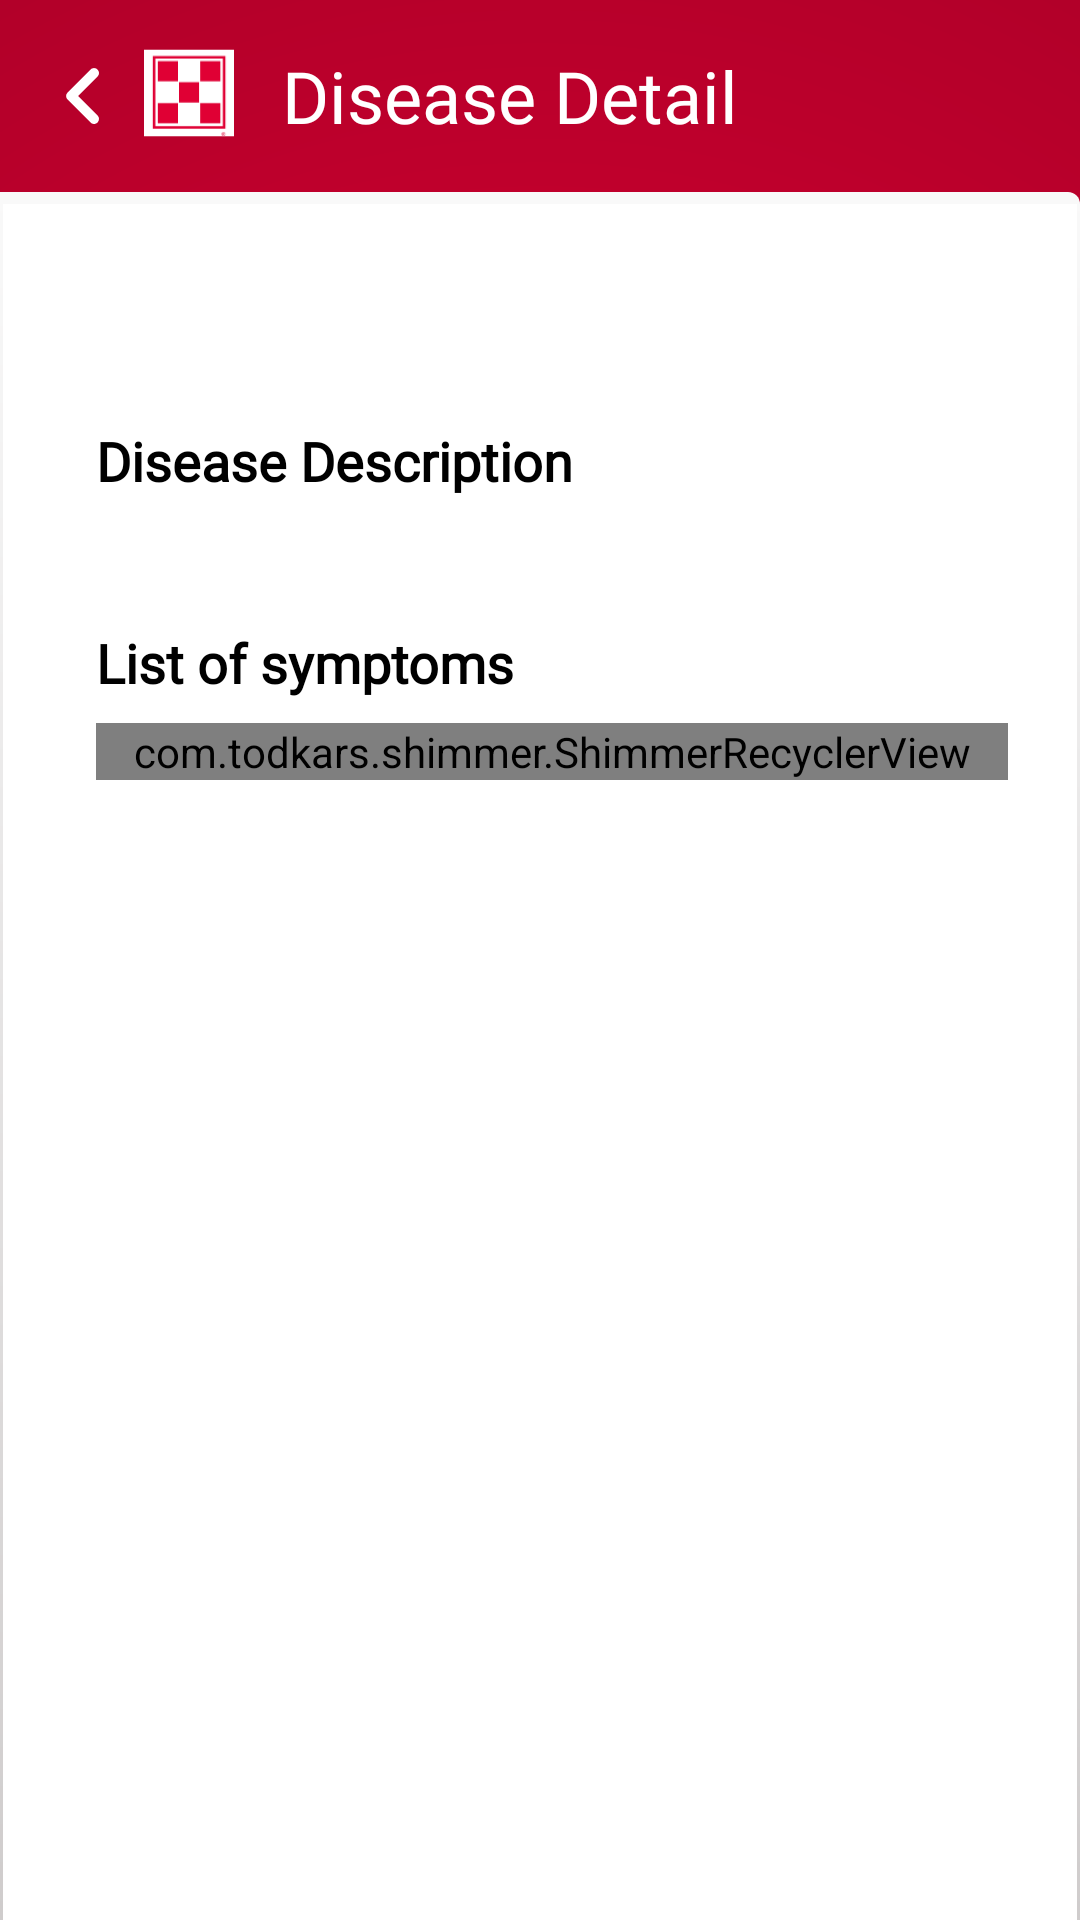

Where icons sit on this 1080×1920 app screen, as (x1, y1, x2, y2):
arrow left: (66, 68, 99, 124)
